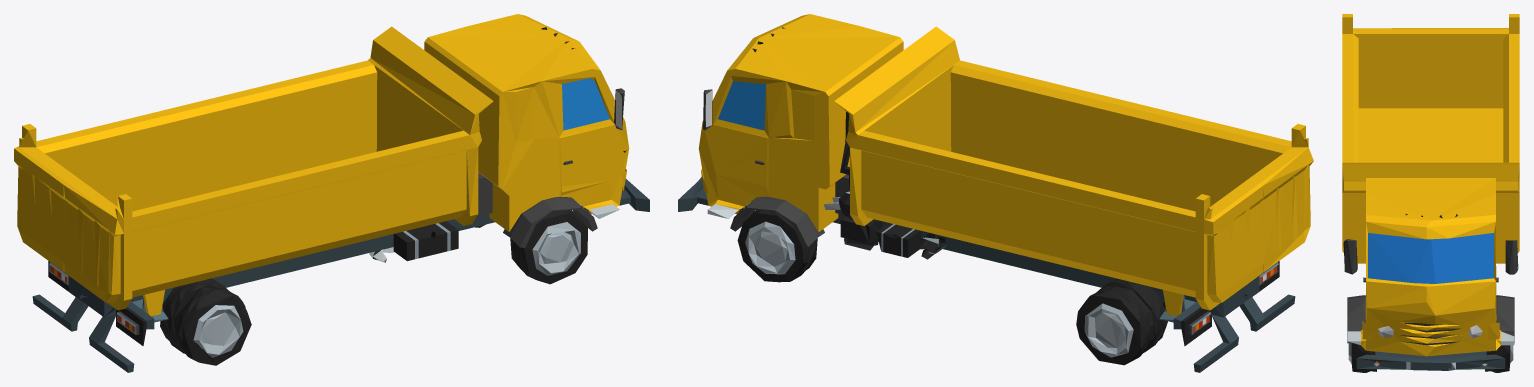
File: truck-mini.glb
3 renders of one model, left to right at view 1: azimuth 30°, elevation 25°; view 2: azimuth 150°, elevation 25°; view 3: azimuth 270°, elevation 25°, orthographic. The views are drawn at different scales.
Size of the model in its own units: 21.27 by 7.54 by 6.83.
1 material, 1 textured.
